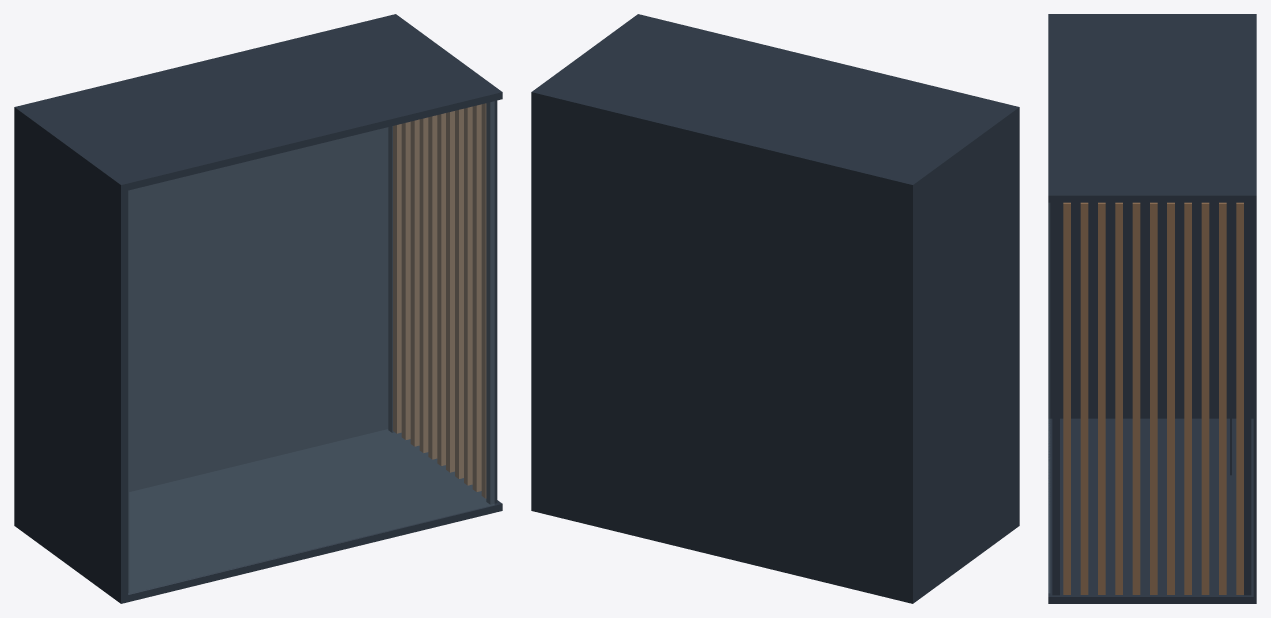
Rendered from case-north-reference.glb.
3 views of the same model, side by side, from view 1: azimuth 30°, elevation 25°; view 2: azimuth 150°, elevation 25°; view 3: azimuth 270°, elevation 25° (orthographic). The views are drawn at different scales.
Parts seen in each view (by area): view 1: Side panel, Rear, Motherboard tray, Top, Base, Back panel, Illustrative front slat (×11), Frame rail (×3); view 2: Back panel, Rear, Top; view 3: Top, Illustrative front slat (×11), Rear, Base, Frame rail (×2), Back panel, Side panel, Motherboard tray.
Boxes of the visible parts, box(x1,y1,x2,y2) form: Side panel: box(128, 101, 494, 594); Rear: box(15, 106, 127, 603); Motherboard tray: box(129, 143, 320, 421); Top: box(15, 15, 502, 191); Base: box(15, 429, 502, 603); Back panel: box(14, 14, 396, 525); Illustrative front slat (×11): box(393, 103, 486, 498); Frame rail (×3): box(120, 17, 497, 592); Back panel: box(531, 91, 914, 603); Rear: box(907, 105, 1019, 601); Top: box(533, 14, 1019, 191); Top: box(1048, 14, 1254, 202); Illustrative front slat (×11): box(1063, 202, 1243, 594); Rear: box(1048, 14, 1254, 418); Base: box(1048, 418, 1254, 603); Frame rail (×2): box(1052, 190, 1251, 595); Back panel: box(1253, 14, 1256, 603); Side panel: box(1048, 203, 1049, 592); Motherboard tray: box(1230, 202, 1231, 475).
Size of the model in its own units: 0.447 by 0.469 by 0.2165.
